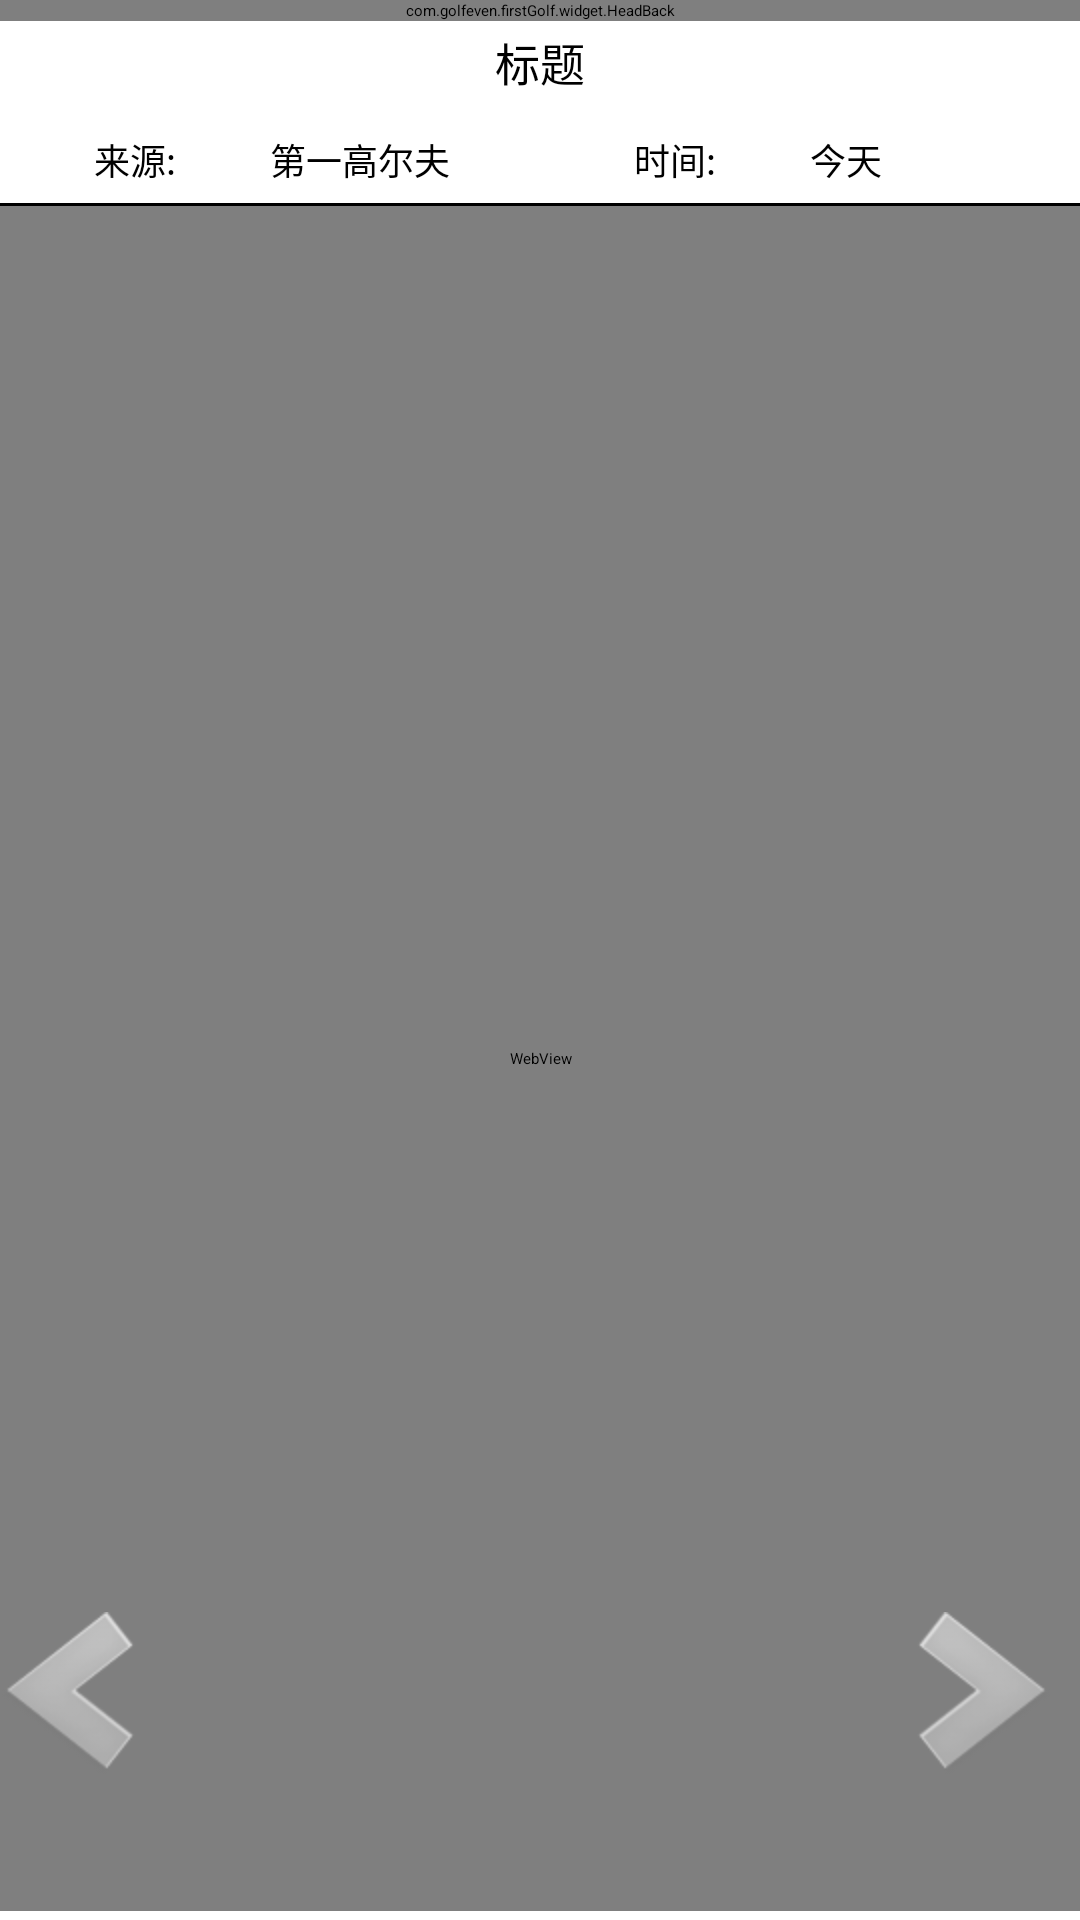

Icons on this 1080×1920 Android screen, each with its box as (x1, y1, x2, y2):
last page: (8, 1612, 133, 1768)
next page: (919, 1612, 1044, 1768)
